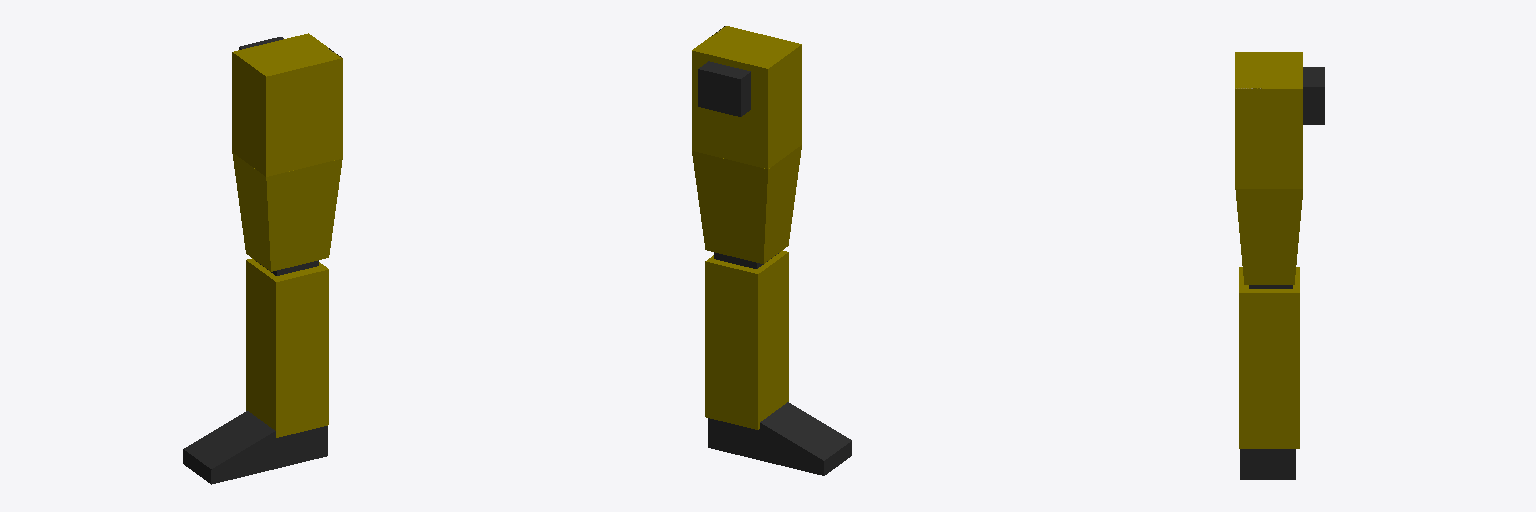
3 views of the same model, side by side, from view 1: azimuth 30°, elevation 25°; view 2: azimuth 150°, elevation 25°; view 3: azimuth 270°, elevation 25° (orthographic).
Visible parts, largest first — view 1: LeftLeg; view 2: LeftLeg; view 3: LeftLeg.
Part boxes in pixels (bbox=[...]): LeftLeg: bbox=[183, 33, 342, 484]; LeftLeg: bbox=[692, 26, 851, 475]; LeftLeg: bbox=[1235, 52, 1324, 479].
Bounding box in the file's own units: 0.6086 × 1.79 × 0.364.
Materials: 1 (1 with a texture image).